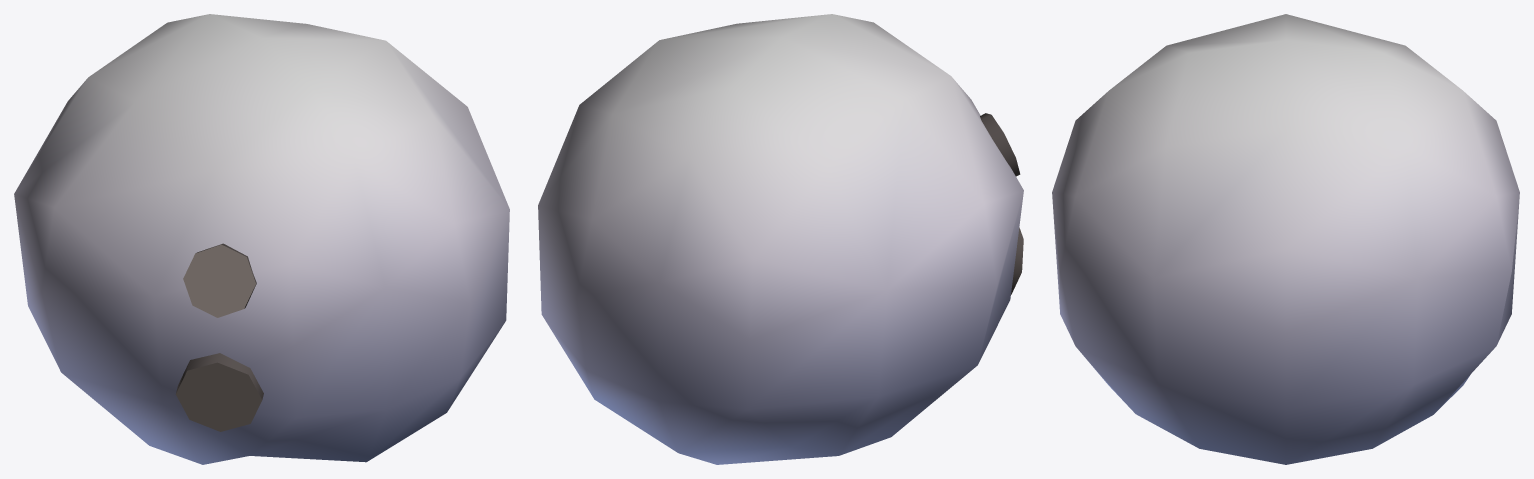
Rendered from IglooSnowmanTorso.glb.
The picture shows the model from 3 angles, left to right: view 1: azimuth 30°, elevation 25°; view 2: azimuth 150°, elevation 25°; view 3: azimuth 270°, elevation 25°; orthographic projection. The views are drawn at different scales.
Visible parts, largest first — view 1: IglooSnowmanTorso; view 2: IglooSnowmanTorso; view 3: IglooSnowmanTorso.
Boxes of the visible parts, <box> form: IglooSnowmanTorso: <box>14,14,509,464</box>; IglooSnowmanTorso: <box>538,14,1023,464</box>; IglooSnowmanTorso: <box>1052,14,1519,464</box>.
Bounding box in the file's own units: 0.3595 × 0.3122 × 0.3474.
